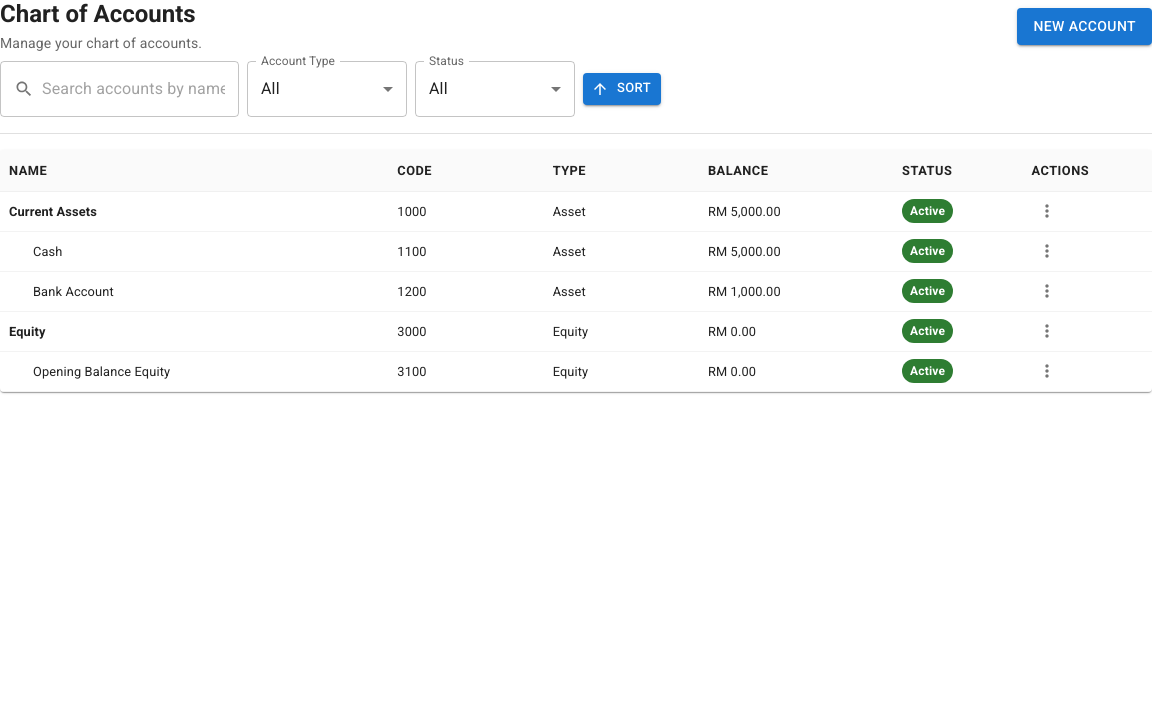
Test: ChartOfAccountsPage › leaves the parent empty when adding a root account
Click the button "New Account" at coordinates (1085, 26), box [1017, 8, 1151, 45]
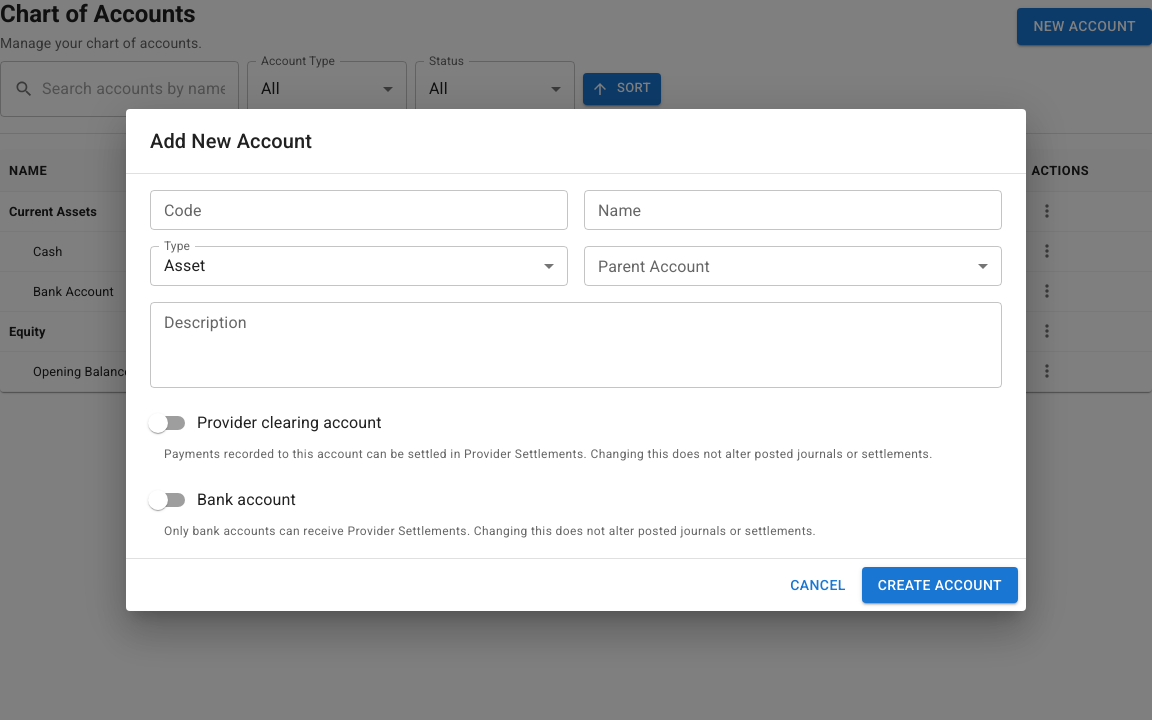
Now the dialog is shown, box [126, 109, 1026, 611]
